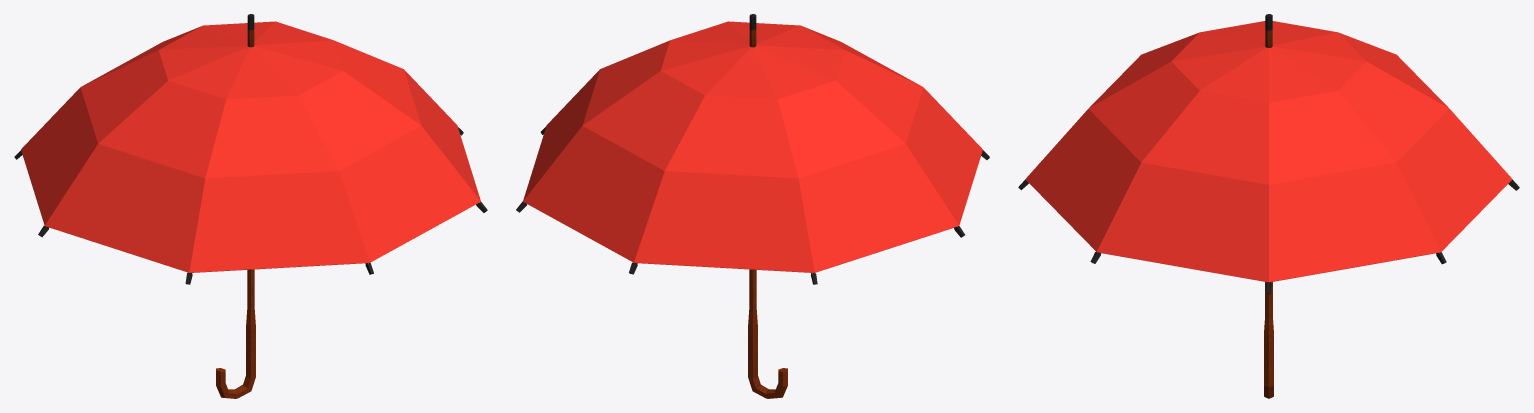
The model's file is umbrella.glb.
3 views of the same model, side by side, from view 1: azimuth 30°, elevation 25°; view 2: azimuth 150°, elevation 25°; view 3: azimuth 270°, elevation 25° (orthographic). The views are drawn at different scales.
Visible parts, largest first — view 1: Umbrella_mesh; view 2: Umbrella_mesh; view 3: Umbrella_mesh.
Boxes of the visible parts, bbox=[...] form: Umbrella_mesh: bbox=[14, 14, 487, 398]; Umbrella_mesh: bbox=[516, 14, 989, 398]; Umbrella_mesh: bbox=[1018, 14, 1519, 398].
Size of the model in its own units: 3.4 by 2.91 by 3.4.
1 material, 1 textured.
